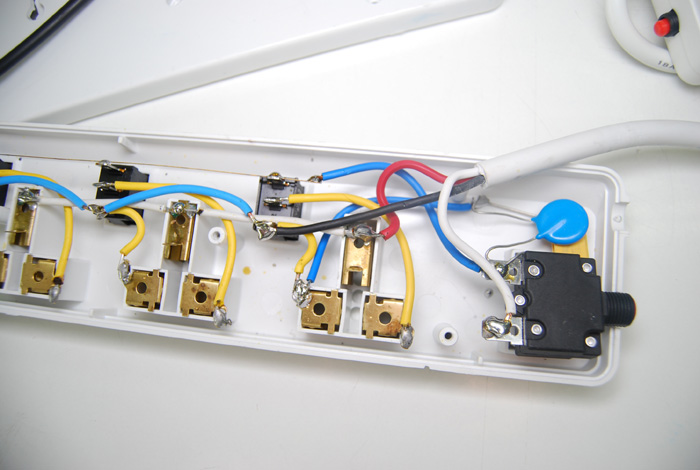Three_eye_plug: (1, 111, 648, 410)
